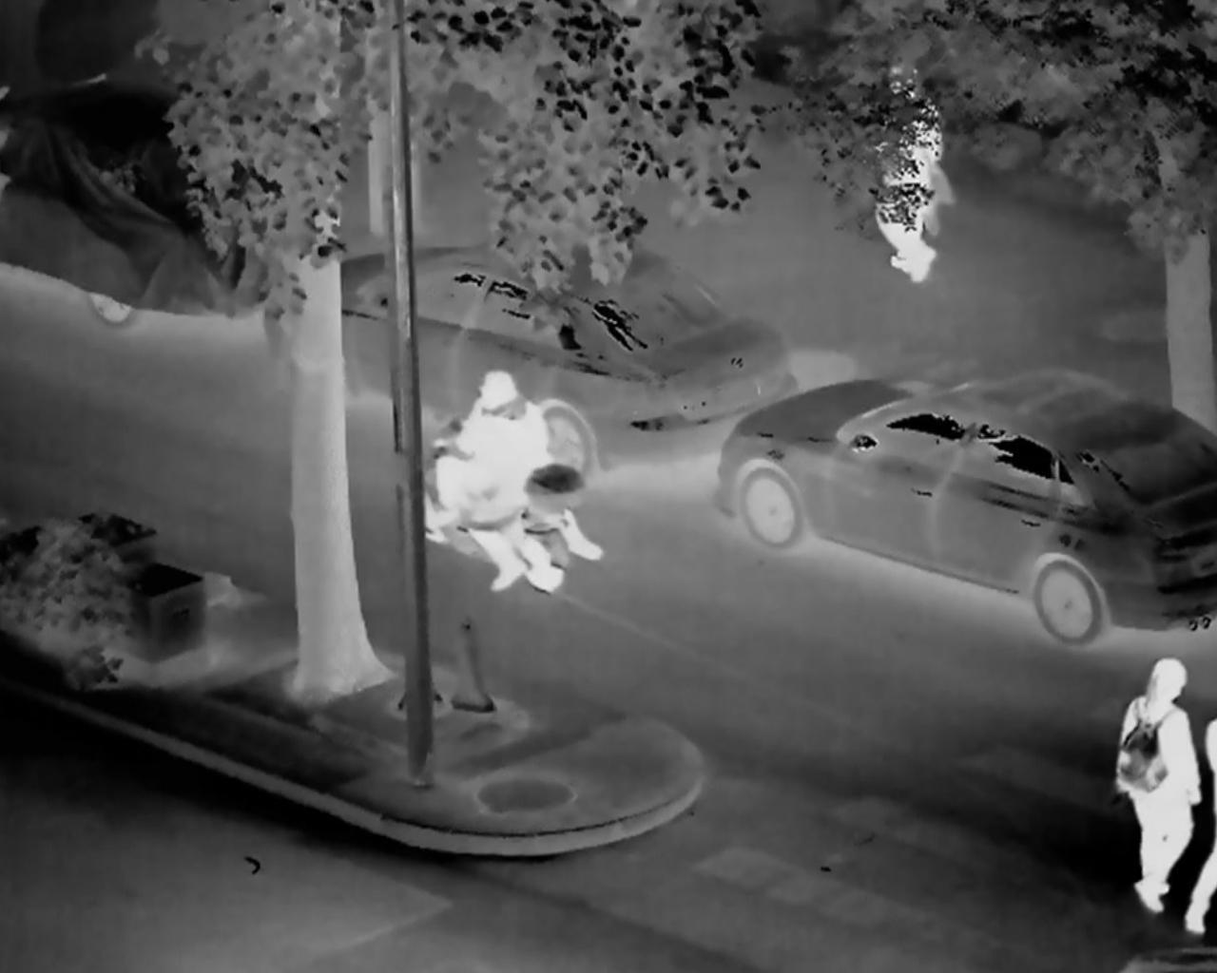person: (1102, 648, 1216, 944), (482, 401, 613, 594), (864, 66, 956, 293), (419, 370, 517, 522)
